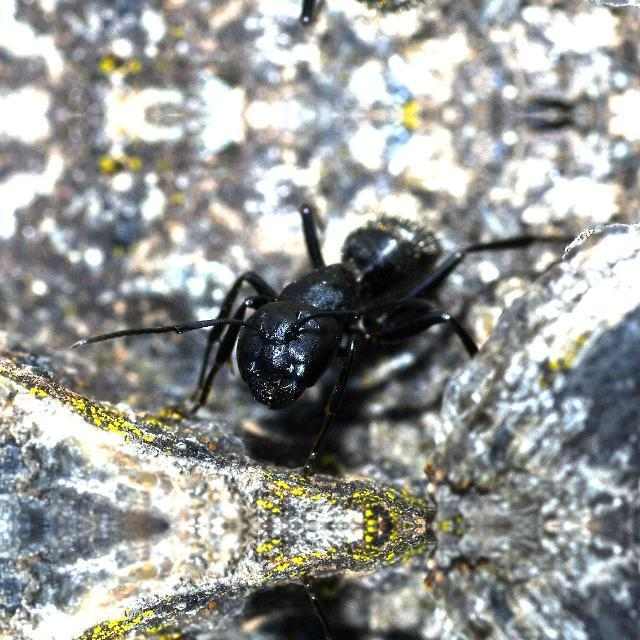Camponotus: (155, 148, 489, 478), (155, 0, 489, 78), (155, 572, 489, 640)
